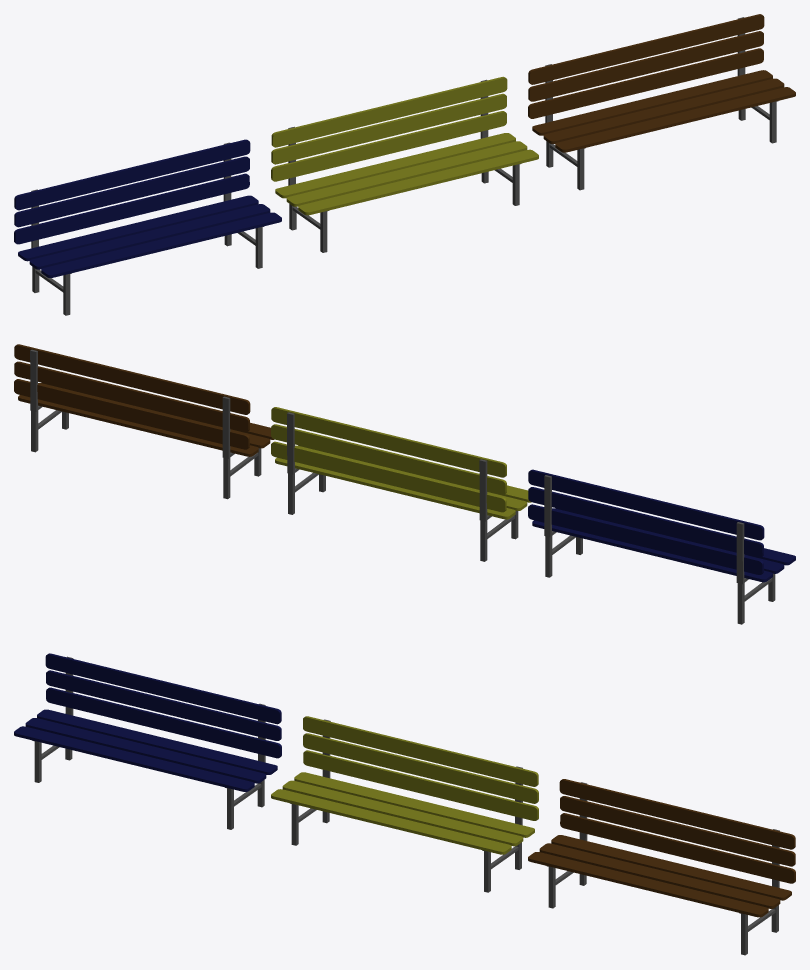
Rendered from bancos.fbx.
3 renders of one model, top to bottom at view 1: azimuth 30°, elevation 25°; view 2: azimuth 150°, elevation 25°; view 3: azimuth 330°, elevation 25°, orthographic.
Visible parts, largest first — view 1: Box036, Box020, Box004, Box005, Box021, Box006, Box037, Box022, Box038, Box019, Box003, Box035 (+6 smaller); view 2: Box004, Box020, Box036, Box037, Box038, Box006, Box022, Box005, Box021, Box033, Box017, Box001 (+9 smaller); view 3: Box036, Box004, Box005, Box020, Box021, Box037, Box006, Box038, Box022, Box019, Box003, Box035 (+6 smaller).
Part boxes in pixels (x1,y1,x2,y2): Box036: [528, 14, 764, 84]; Box020: [271, 76, 507, 147]; Box004: [14, 139, 250, 210]; Box005: [14, 156, 249, 227]; Box021: [271, 93, 506, 164]; Box006: [14, 173, 249, 244]; Box037: [528, 31, 763, 101]; Box022: [271, 111, 506, 181]; Box038: [528, 48, 763, 118]; Box019: [298, 149, 538, 215]; Box003: [41, 212, 281, 277]; Box035: [555, 87, 795, 152]; Box004: [528, 469, 764, 540]; Box020: [271, 407, 506, 477]; Box036: [14, 344, 250, 414]; Box037: [14, 361, 249, 432]; Box038: [14, 379, 249, 449]; Box006: [528, 504, 763, 574]; Box022: [271, 441, 506, 512]; Box005: [528, 487, 763, 557]; Box021: [271, 424, 506, 494]; Box033: [18, 395, 258, 456]; Box017: [275, 457, 515, 519]; Box001: [532, 520, 772, 582]; Box036: [559, 779, 795, 849]; Box004: [45, 653, 281, 724]; Box005: [46, 670, 281, 740]; Box020: [303, 716, 538, 786]; Box021: [303, 733, 538, 803]; Box037: [560, 796, 795, 866]; Box006: [46, 687, 281, 758]; Box038: [560, 813, 795, 883]; Box022: [303, 750, 538, 820]; Box019: [271, 789, 511, 854]; Box003: [14, 726, 254, 791]; Box035: [528, 852, 768, 917].
Bounding box in the file's own units: 48.7 × 6.3 × 4.1.
